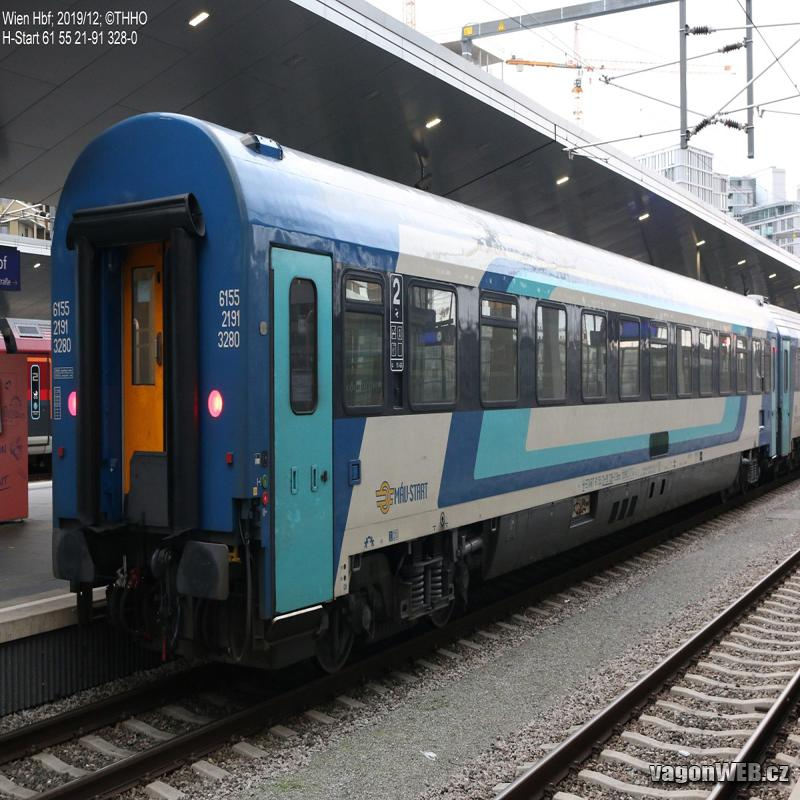train: (53, 112, 780, 711)
